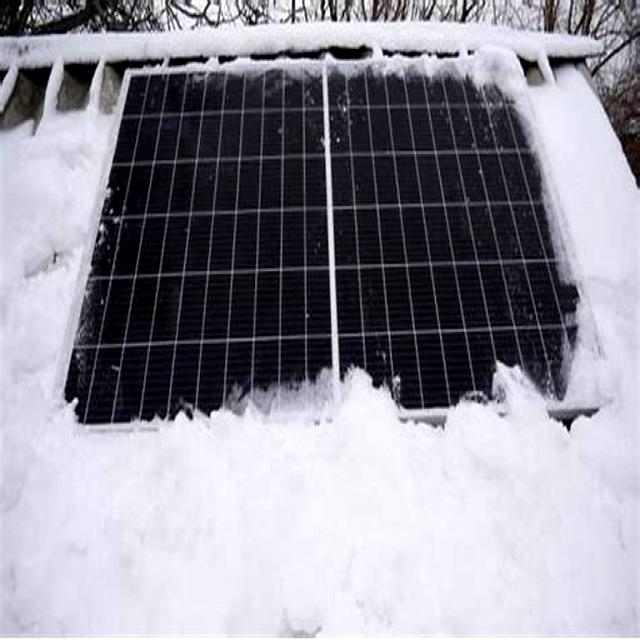panel: (59, 115, 113, 434), (194, 365, 300, 462), (552, 248, 613, 395), (434, 44, 534, 132), (446, 354, 538, 442), (58, 396, 192, 451), (306, 362, 396, 434), (213, 39, 320, 90), (328, 42, 426, 93), (128, 51, 201, 80)
